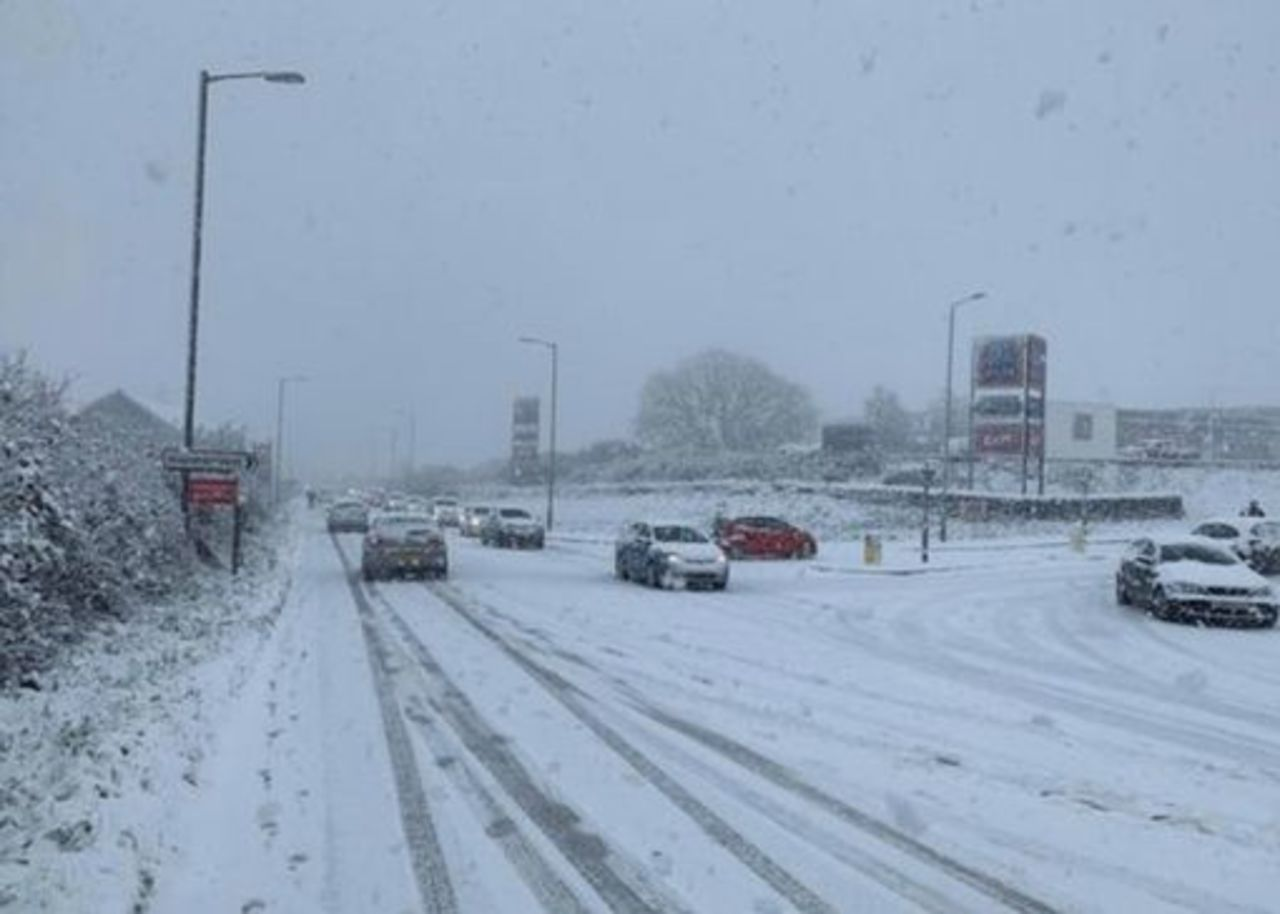car: (1120, 541, 1275, 629), (614, 520, 731, 591), (365, 513, 447, 581), (715, 515, 818, 560), (493, 508, 543, 551), (324, 499, 377, 534), (457, 501, 495, 535), (430, 494, 464, 522)
